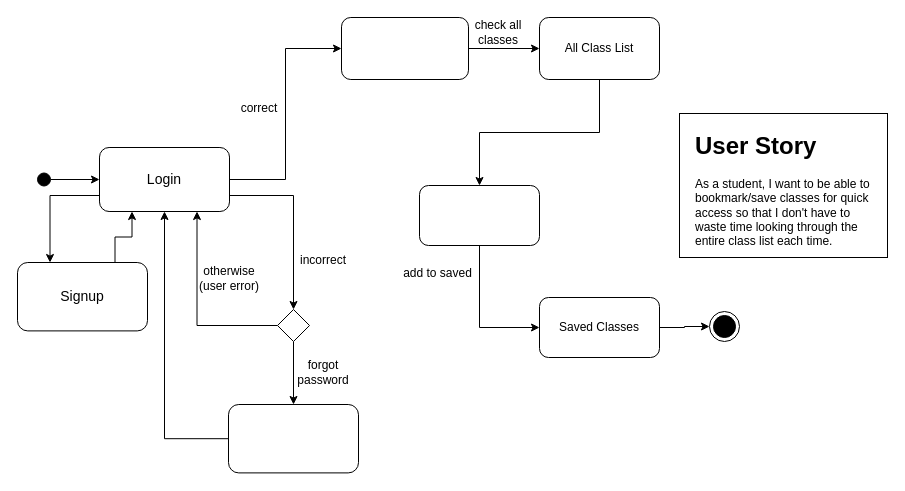
Image size: 905x491. Some labels were removed from this diagram. The shapes that lost their labels are listed below. From the top down, each one's centre as x and y in pixels, then its label:
At [404,48]: "Home Page".
At [479,215]: "Class Page".
At [293,438]: "Password Recovery".
